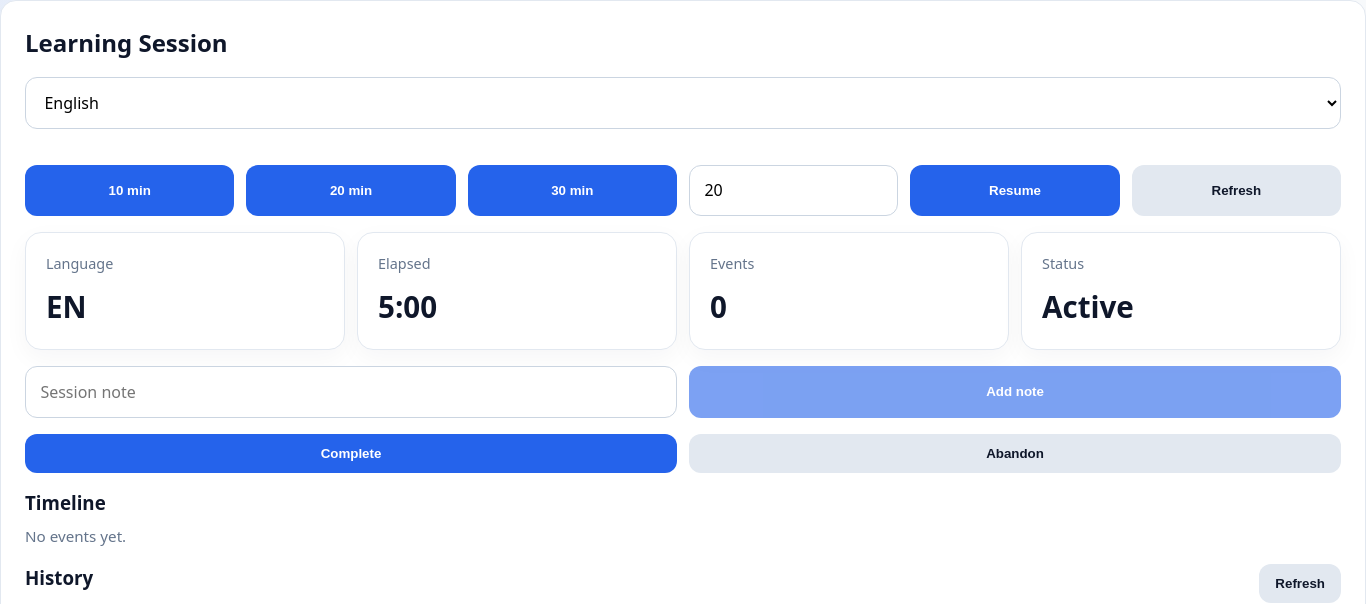
Test case: LearningSessionPanel.vue › creates a new note operation when edited text is submitted after a timeout
In the field with placeholder "Session note": {"x": 351, "y": 392} [25,366,677,418], type "first note"
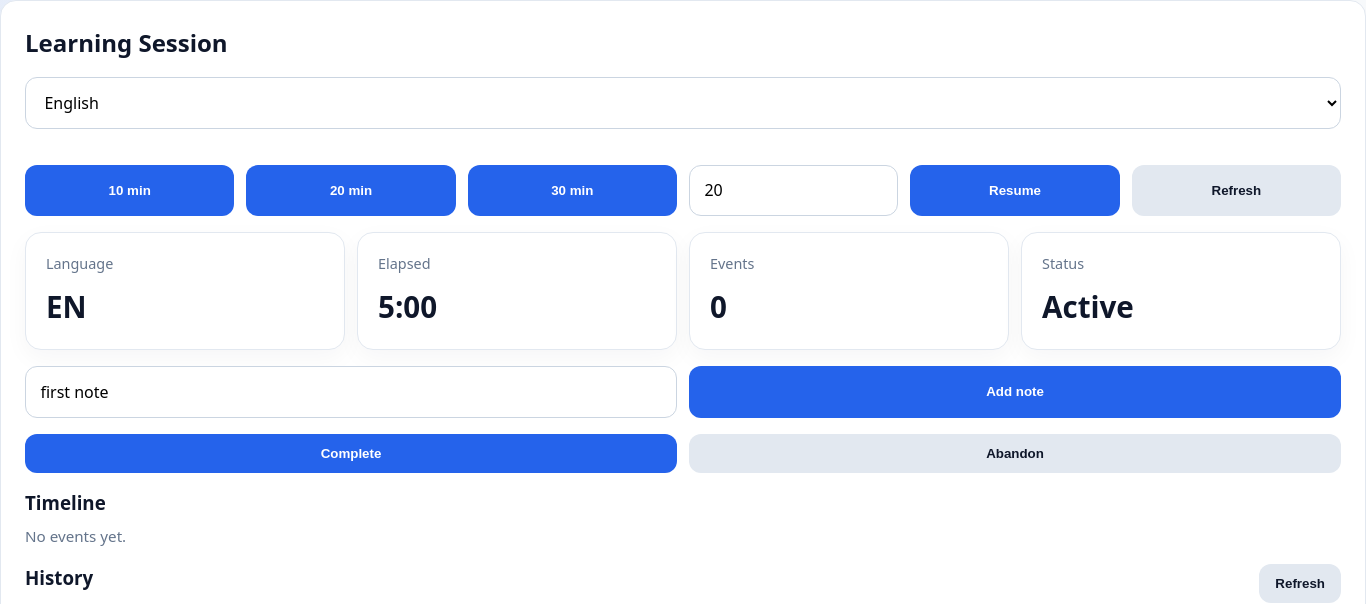
Click the button "Add note": {"x": 1015, "y": 392} [689,366,1341,418]
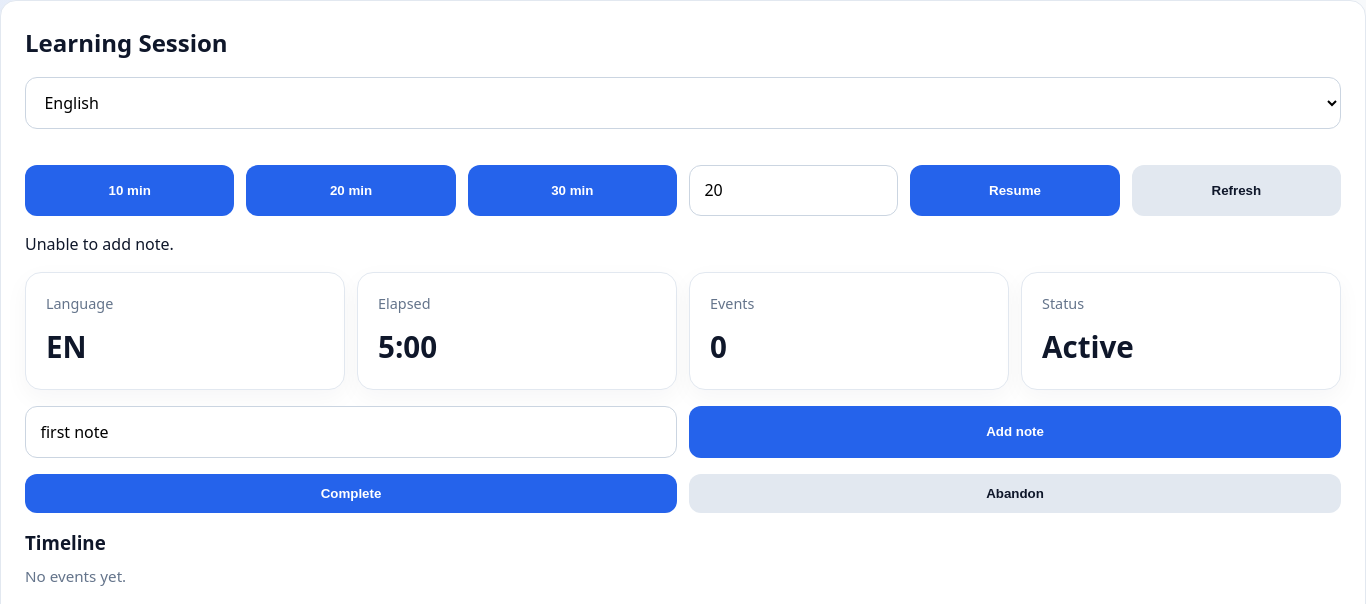
Replace the text in the field named "Session note" with "edited note": {"x": 351, "y": 432} [25,406,677,458]
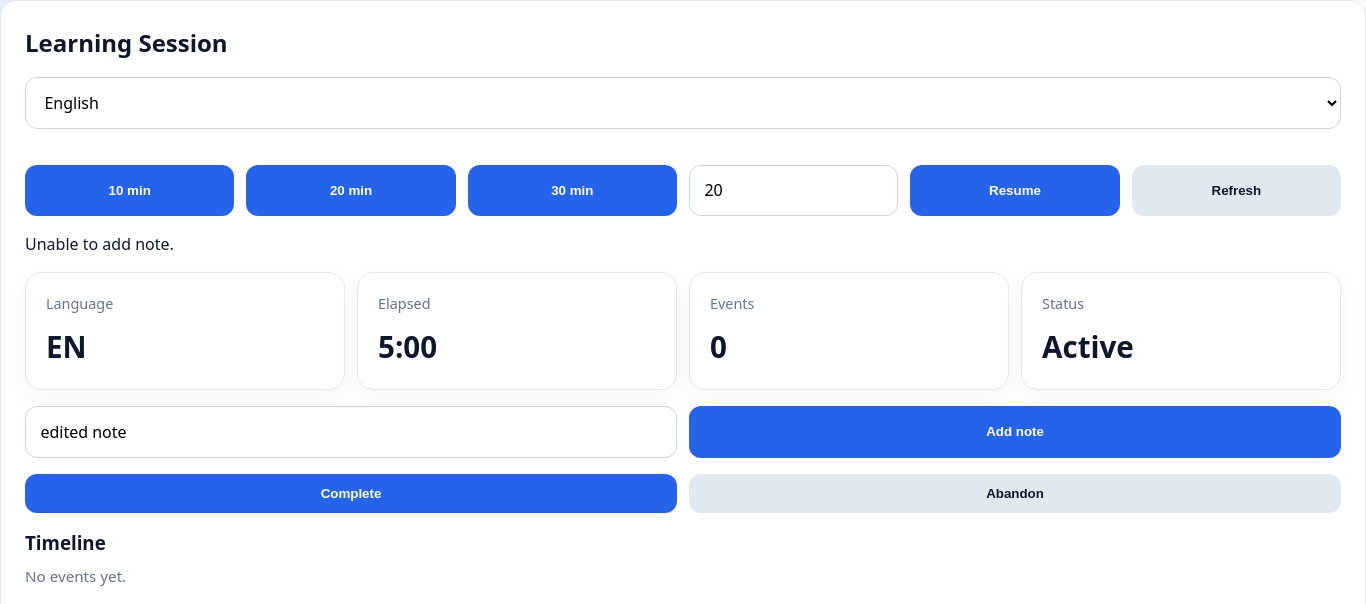
Click the button "Add note": {"x": 1015, "y": 432} [689,406,1341,458]
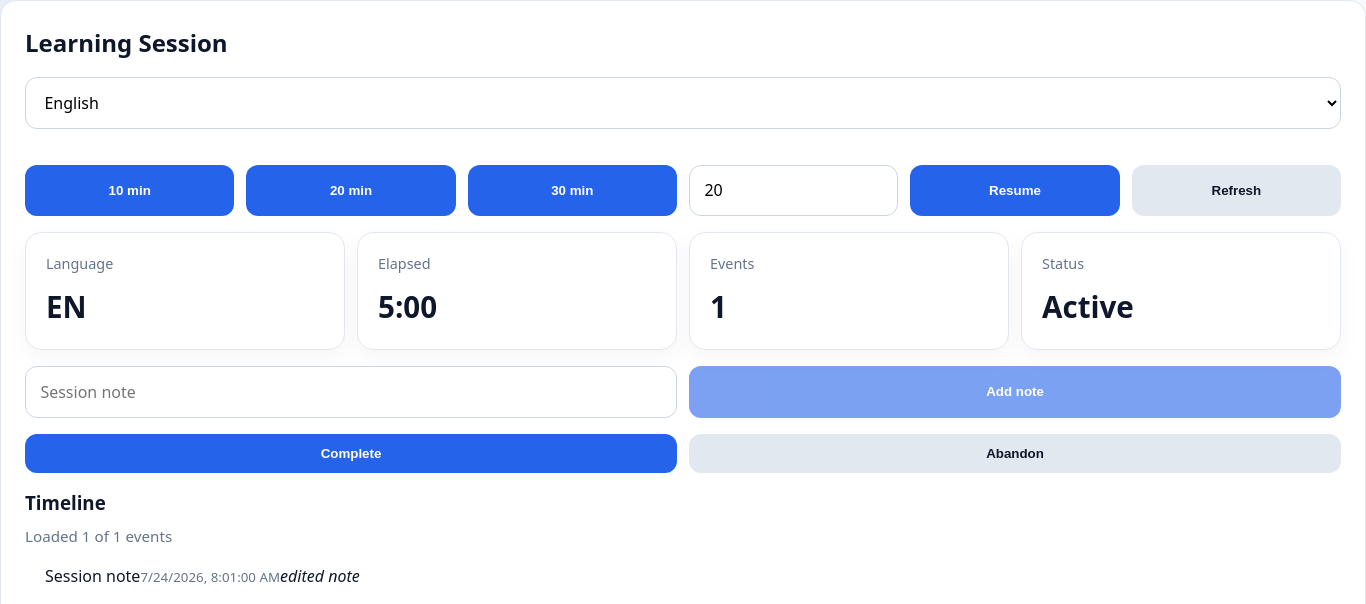
Expected: the text "edited note" is shown, [280,565,360,587]
